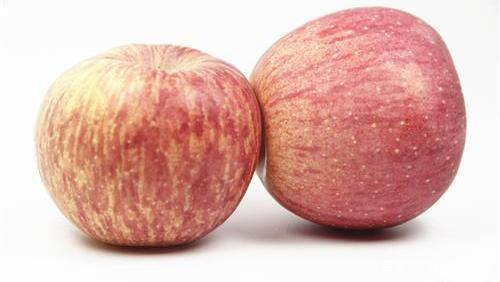apple: (255, 5, 466, 233), (31, 43, 262, 247)
